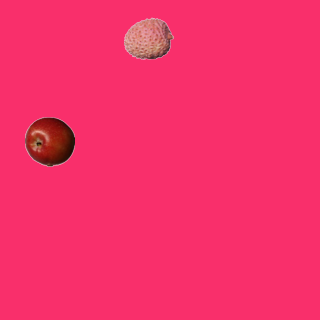Apple Braeburn: (24, 116, 74, 166)
Lychee: (123, 13, 173, 63)
